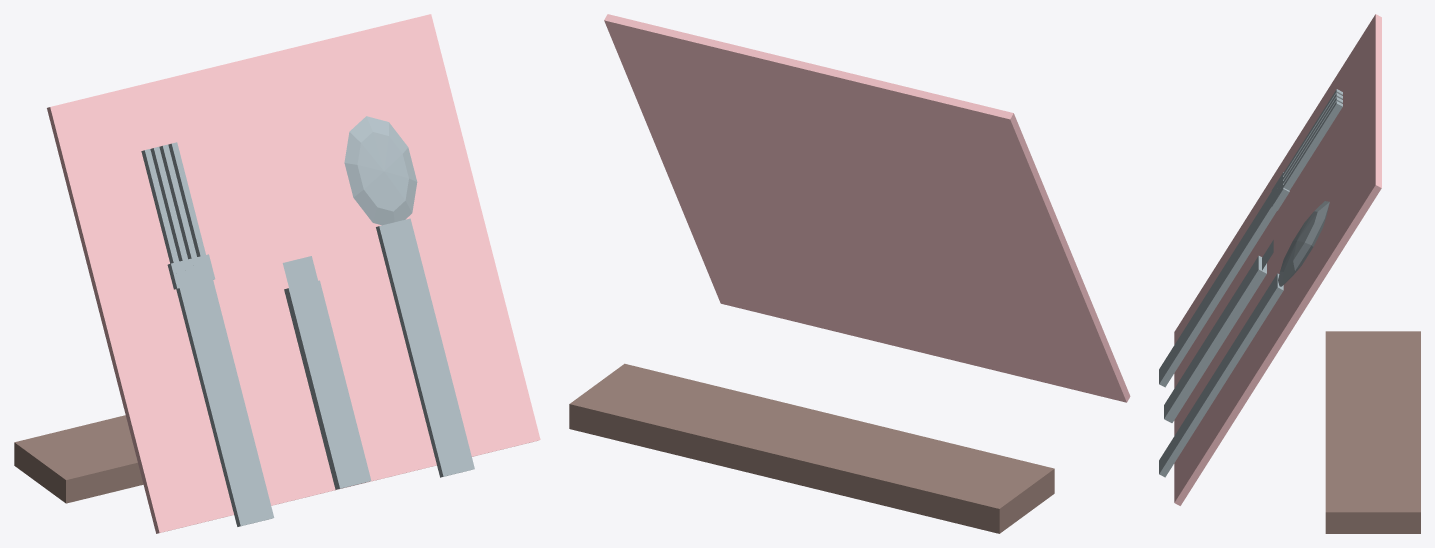
File: bestick.glb
The picture shows the model from 3 angles, left to right: view 1: azimuth 30°, elevation 25°; view 2: azimuth 150°, elevation 25°; view 3: azimuth 270°, elevation 25°; orthographic projection. The views are drawn at different scales.
Parts seen in each view (by area): view 1: bestick; view 2: bestick; view 3: bestick.
Boxes of the visible parts, bbox=[...] form: bestick: bbox=[14, 14, 540, 533]; bestick: bbox=[569, 14, 1130, 533]; bestick: bbox=[1159, 14, 1420, 533].
Bounding box in the file's own units: 0.36 × 0.319 × 0.22.
